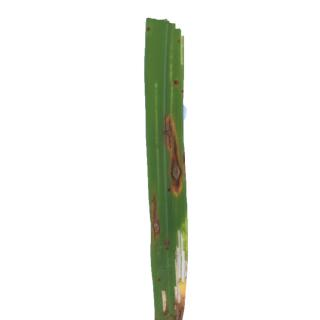Blast: (160, 114, 184, 197), (149, 197, 165, 240)
